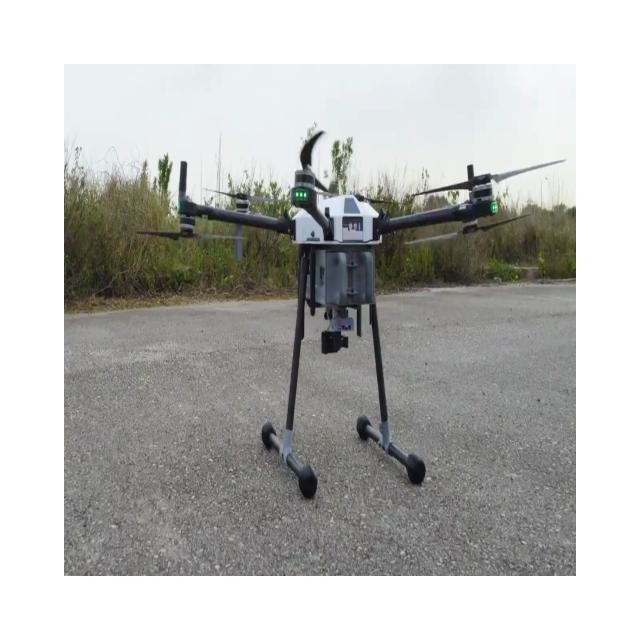drone: (134, 128, 566, 498)
